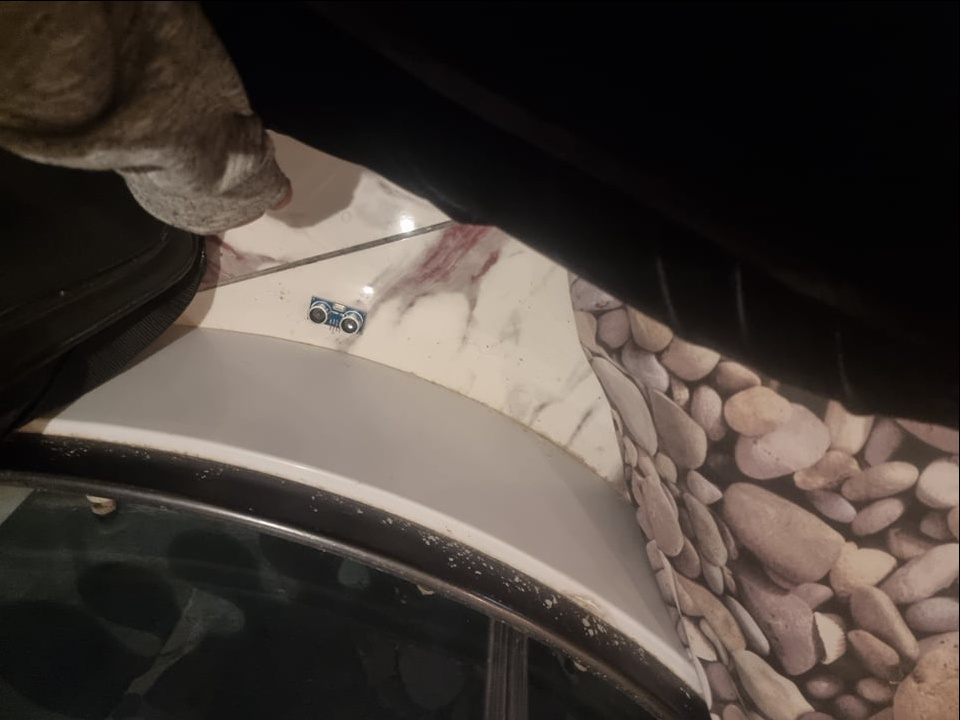SENSOR: (307, 300, 363, 334)
